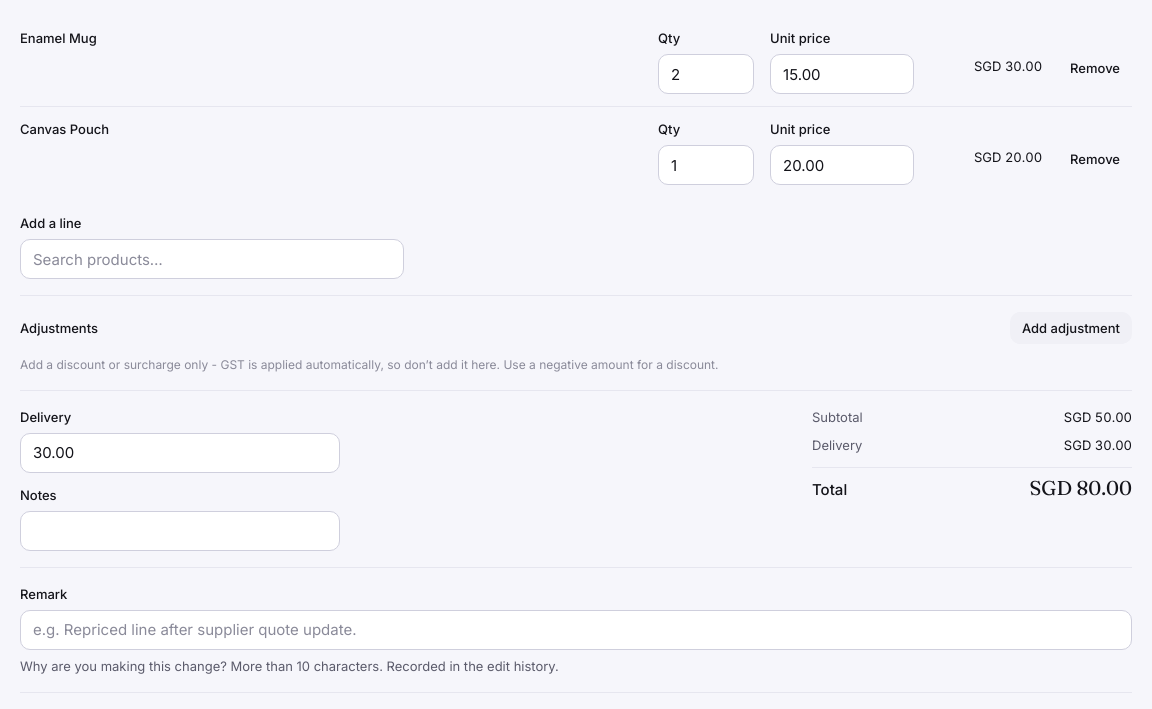
Test case: blocks removing the last remaining line so an order always keeps one item
Note: Two lines: remove the first, leaving one.
Click the 1st button "Remove".
click(1095, 68)  # box [1058,52,1132,84]
(page scrolled)
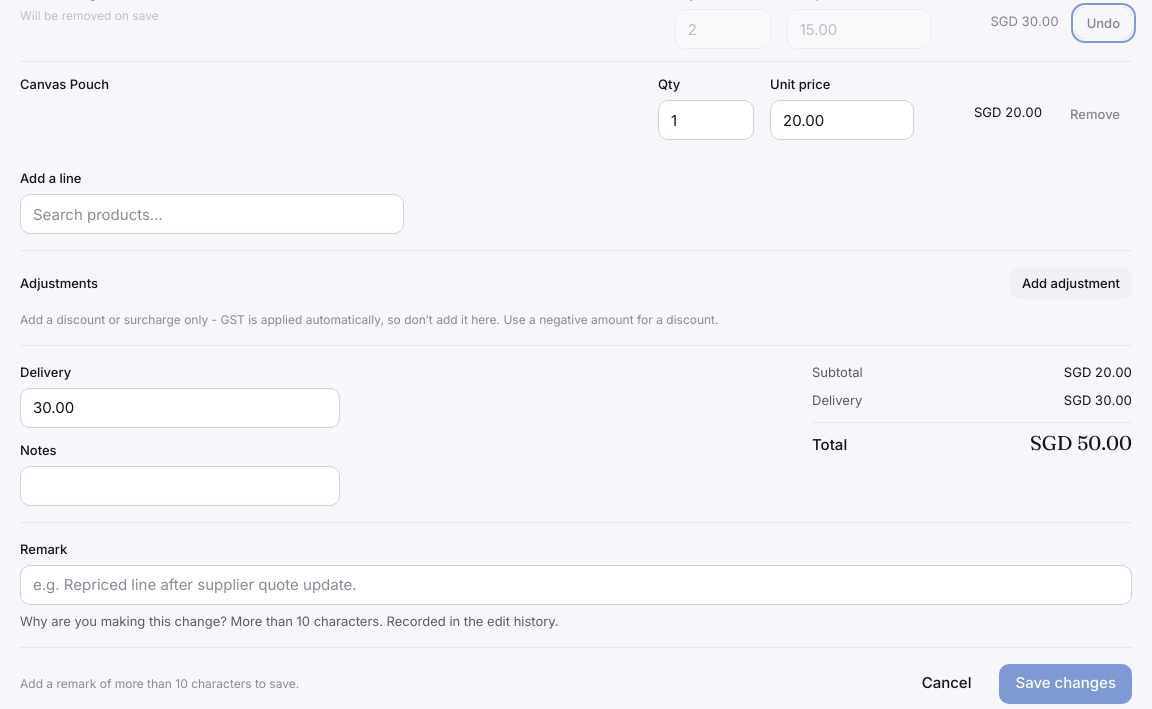
Check: the number of buttons "Remove" is 1, box [1058,98,1132,130]
Check: the button "Remove" is disabled, box [1058,98,1132,130]
